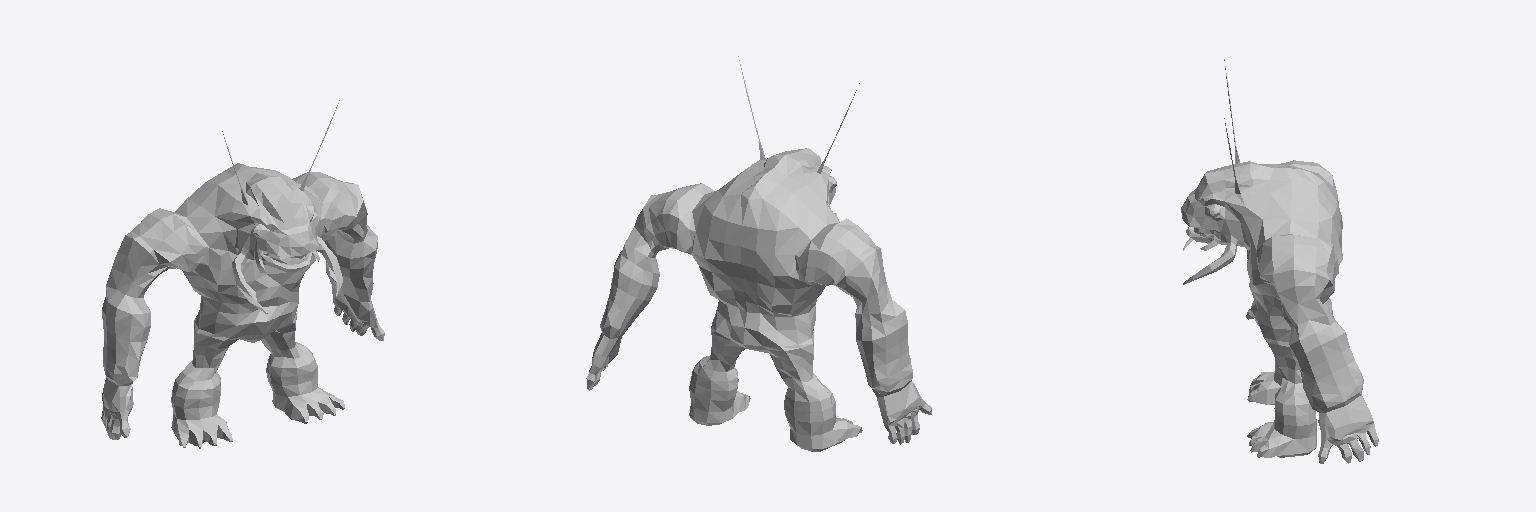
The model's file is Ataque3.obj.
3 views of the same model, side by side, from view 1: azimuth 30°, elevation 25°; view 2: azimuth 150°, elevation 25°; view 3: azimuth 270°, elevation 25° (orthographic).
Parts seen in each view (by area): view 1: Umber_Hulk_2:Umber_Hulk_1; view 2: Umber_Hulk_2:Umber_Hulk_1; view 3: Umber_Hulk_2:Umber_Hulk_1.
Boxes of the visible parts, <box> form: Umber_Hulk_2:Umber_Hulk_1: <box>101,100,384,448</box>; Umber_Hulk_2:Umber_Hulk_1: <box>586,56,931,451</box>; Umber_Hulk_2:Umber_Hulk_1: <box>1181,59,1378,463</box>.
Size of the model in its own units: 111 by 121 by 63.91.